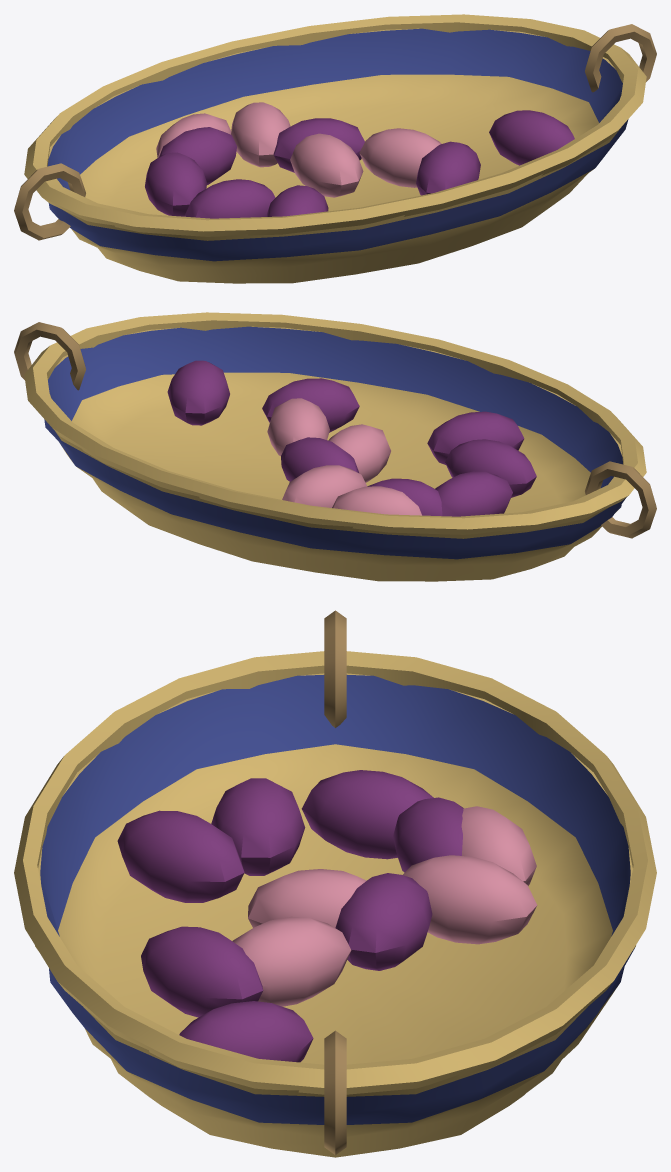
The model's file is deco_basket_tray.fbx.
3 renders of one model, top to bottom at view 1: azimuth 30°, elevation 25°; view 2: azimuth 150°, elevation 25°; view 3: azimuth 270°, elevation 25°, orthographic. The views are drawn at different scales.
Parts seen in each view (by area): view 1: Basket_Tray_Tray, Basket_Tray_Tubers; view 2: Basket_Tray_Tray, Basket_Tray_Tubers; view 3: Basket_Tray_Tray, Basket_Tray_Tubers.
Part boxes in pixels (left/top/right/bottom): Basket_Tray_Tray: left=14, top=14, right=656, bottom=283; Basket_Tray_Tubers: left=145, top=102, right=574, bottom=218; Basket_Tray_Tray: left=14, top=312, right=656, bottom=581; Basket_Tray_Tubers: left=167, top=360, right=536, bottom=516; Basket_Tray_Tray: left=14, top=610, right=656, bottom=1157; Basket_Tray_Tubers: left=117, top=770, right=537, bottom=1062.
Bounding box in the file's own units: 153 × 24.18 × 87.96.
